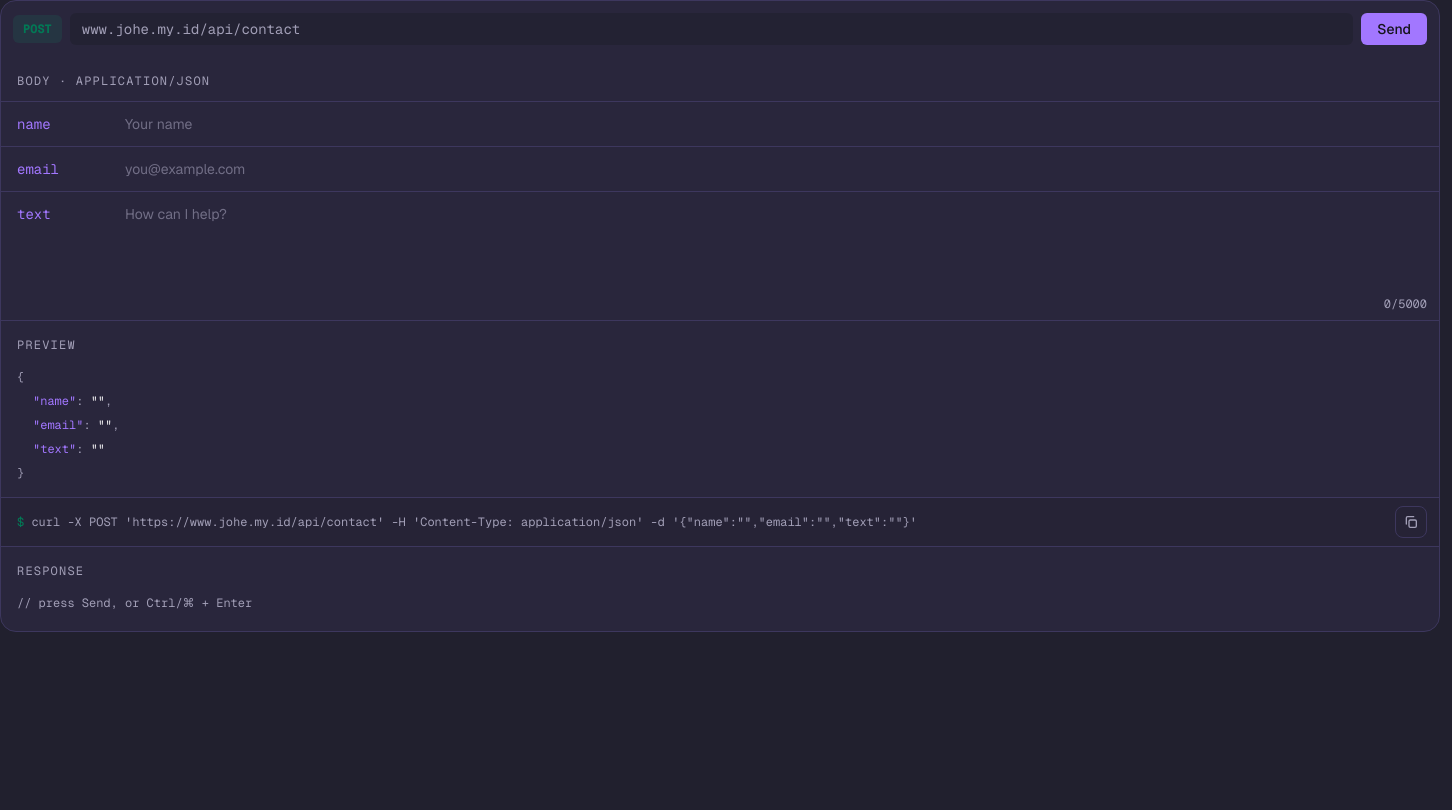
Test: sending › replaces the whole form with the real response once the message is accepted
Type "Ada" into the field named "Your name" at (776, 124), box x1=113 y1=102 x2=1439 y2=146
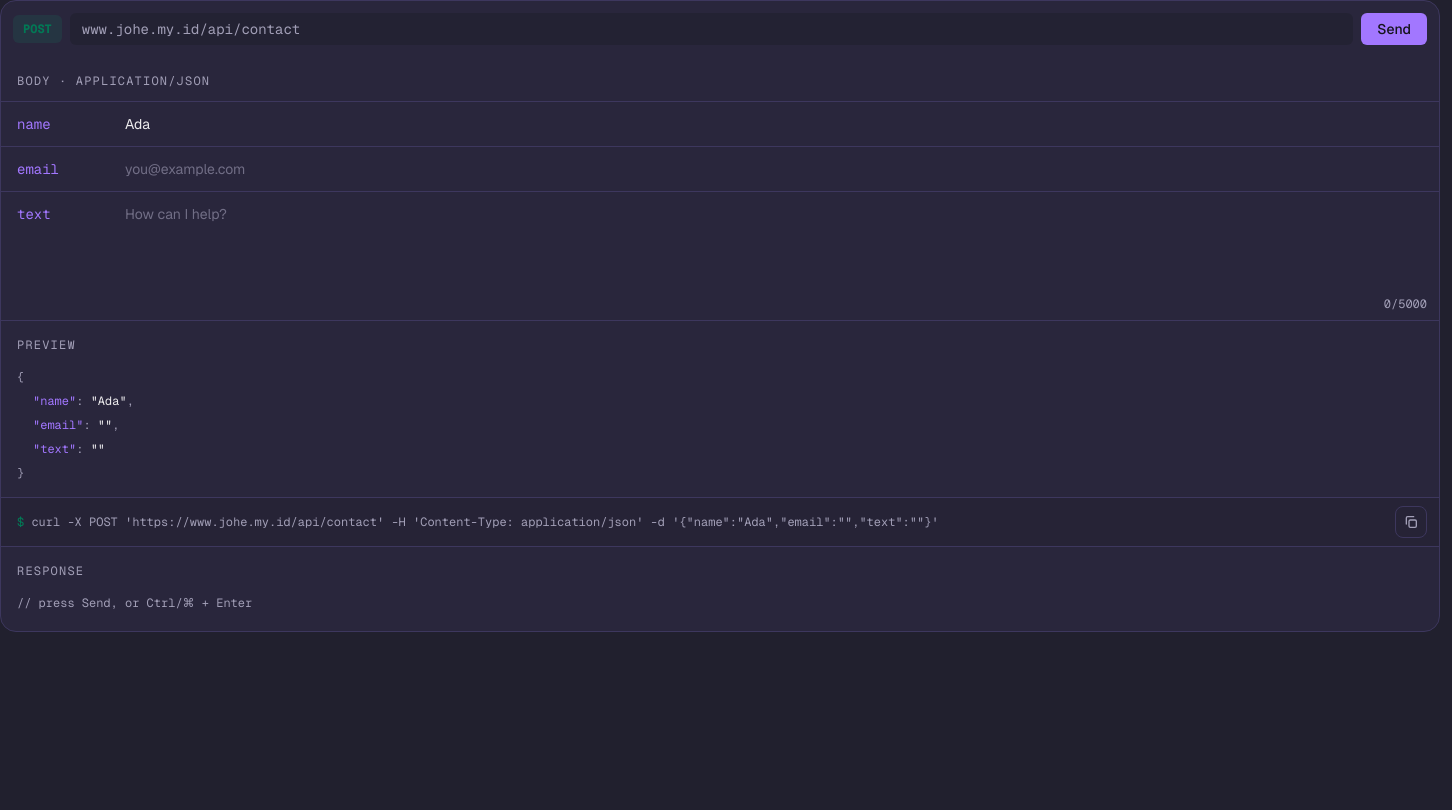
Type "ada@example.com" into the field named "Your email" at (776, 169), box x1=113 y1=147 x2=1439 y2=191
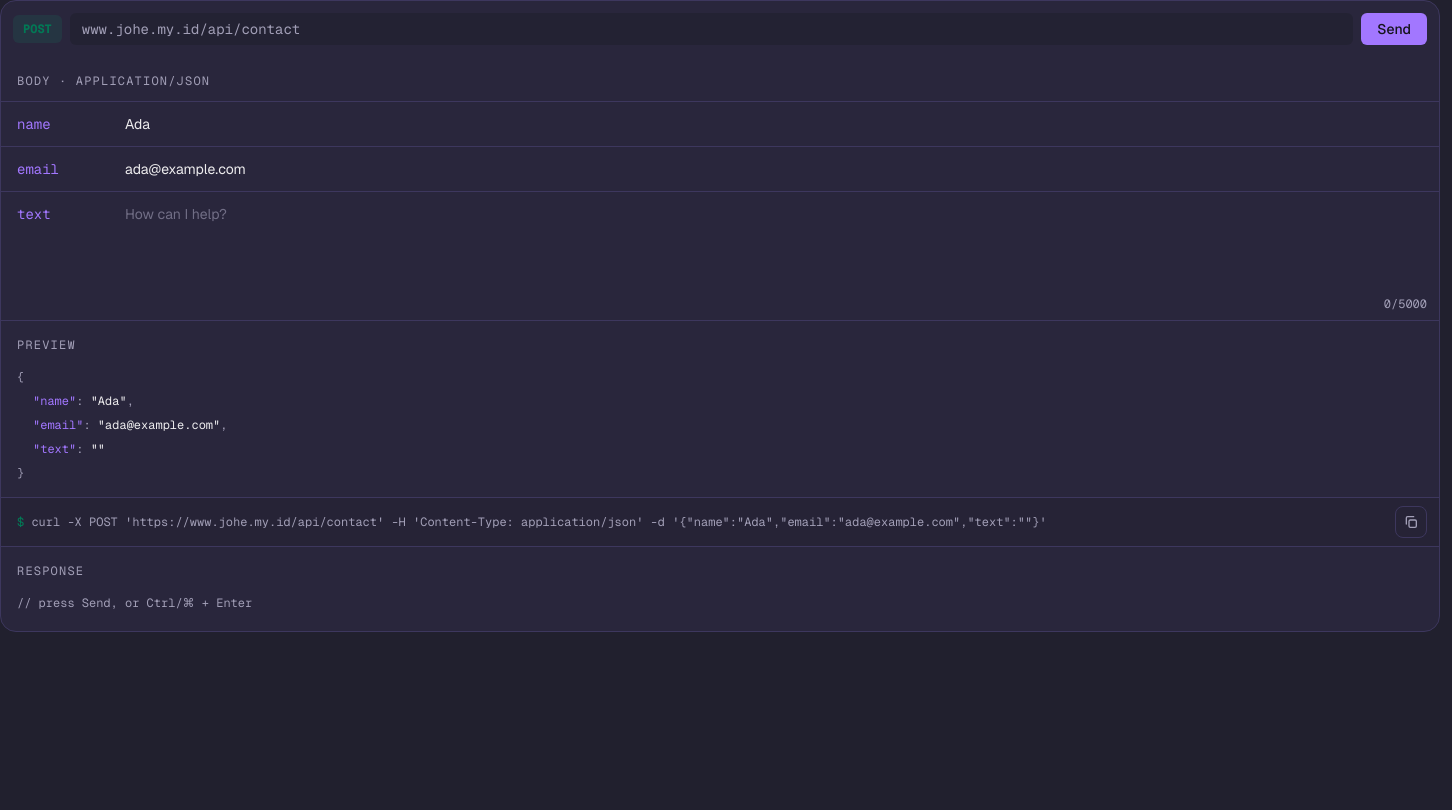
Type "Hello there" into the text box named "Message text" at (776, 244), box x1=113 y1=192 x2=1439 y2=296
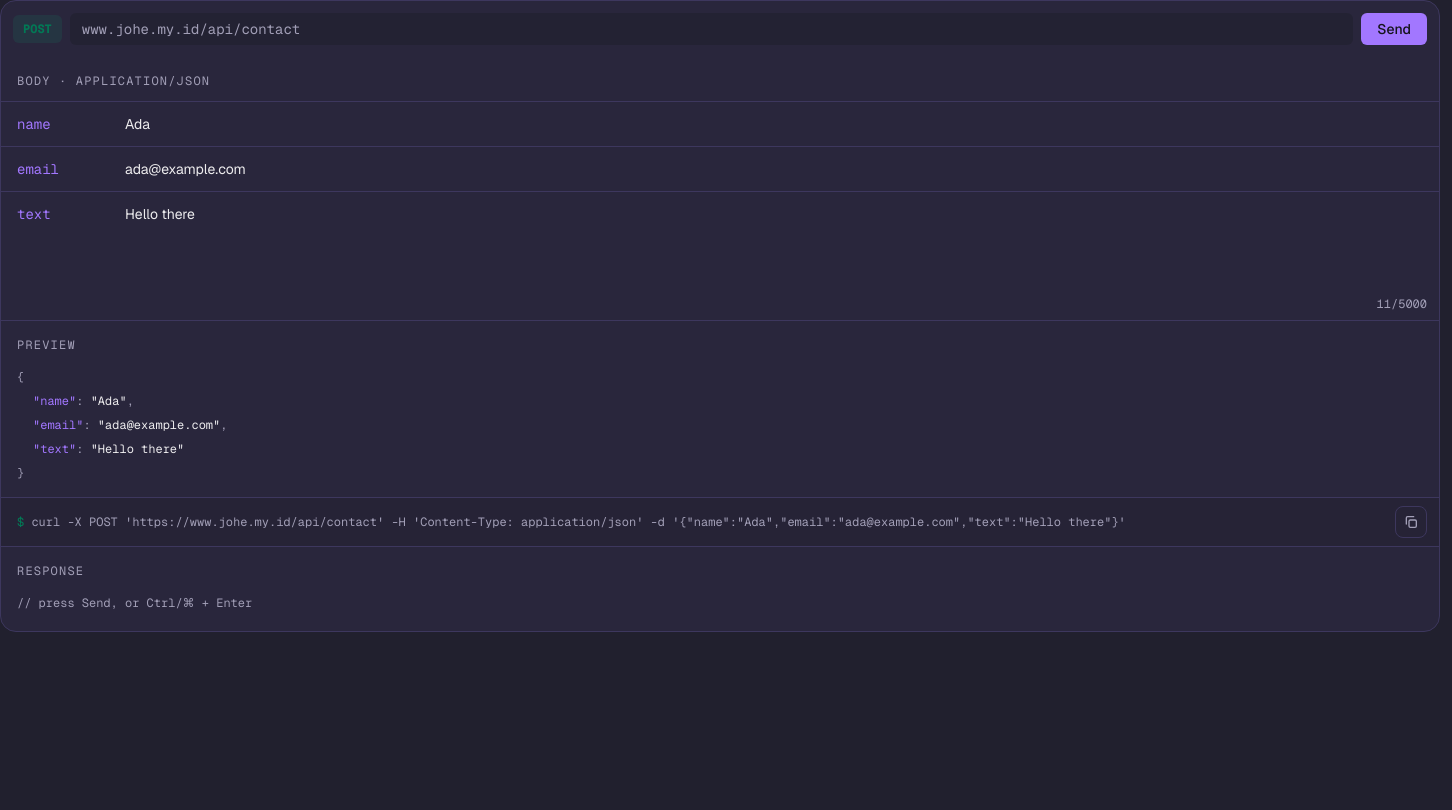
Click the button "Send" at (1394, 29), box x1=1361 y1=13 x2=1427 y2=45
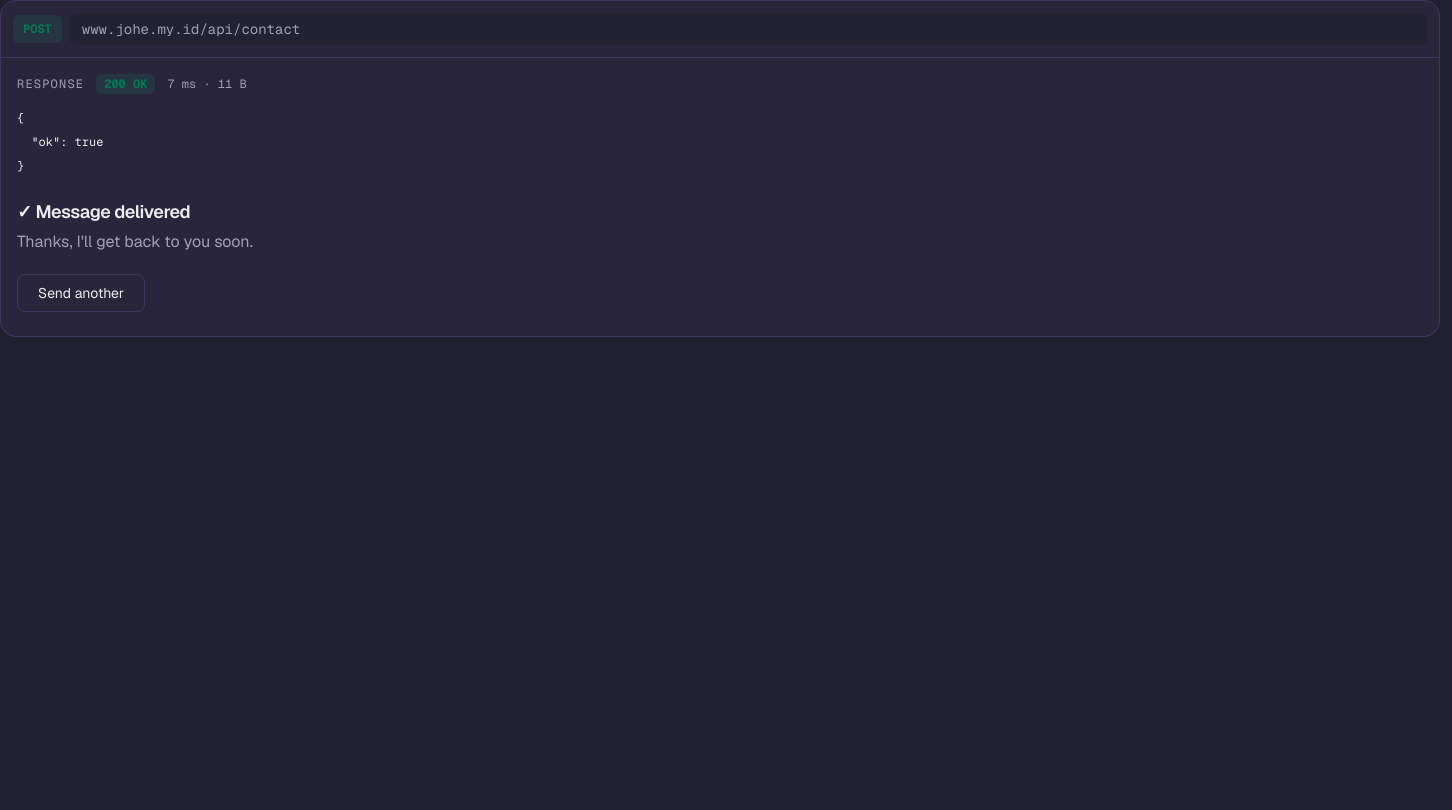
Now the text "200 OK" is shown, box x1=96 y1=74 x2=155 y2=94
Now the text "{ \"ok\": true }" is shown, box x1=17 y1=110 x2=103 y2=174
Now the text "✓ Message delivered" is shown, box x1=17 y1=200 x2=190 y2=223
